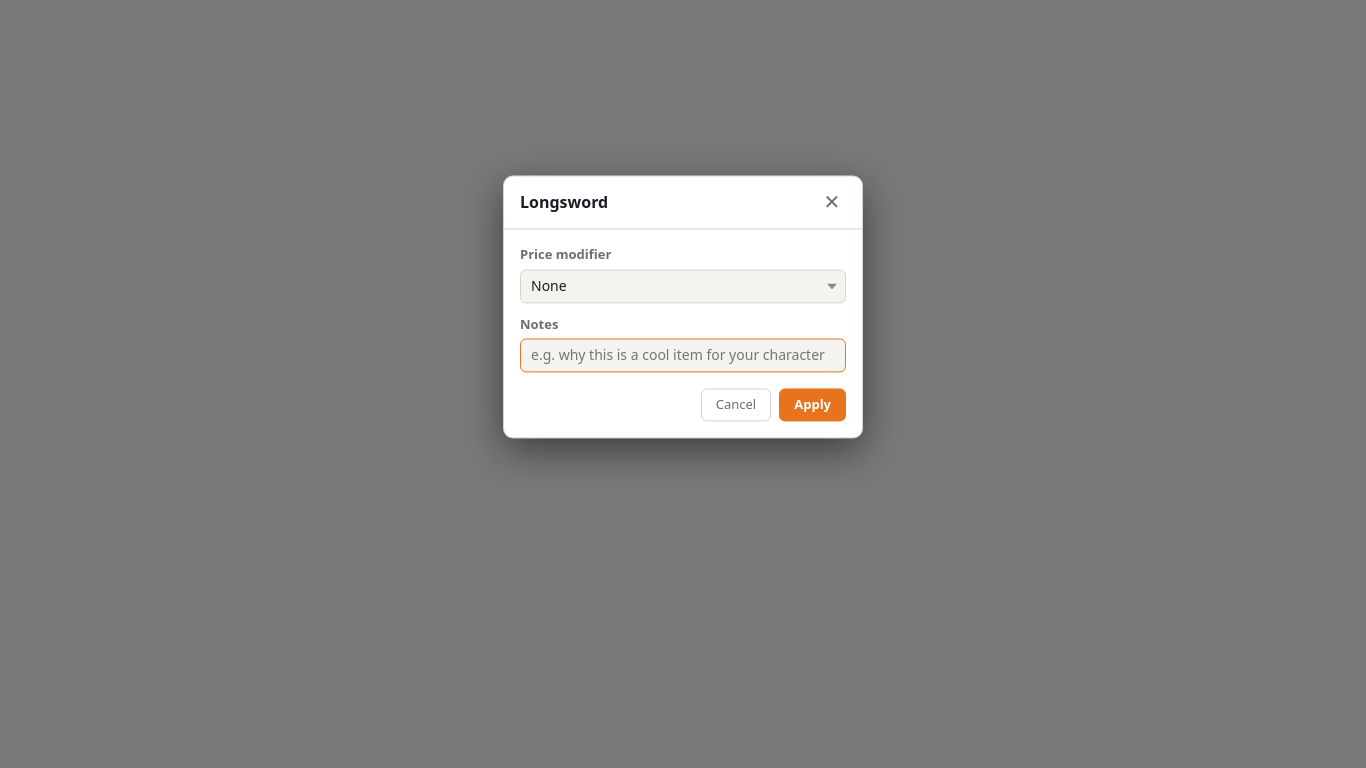
ItemSettingsModal › discount presets › selecting Custom (gp) shows the amount input
Select "Custom (gp)" in the dropdown labelled "Price modifier": (683, 286) [520,269,846,303]
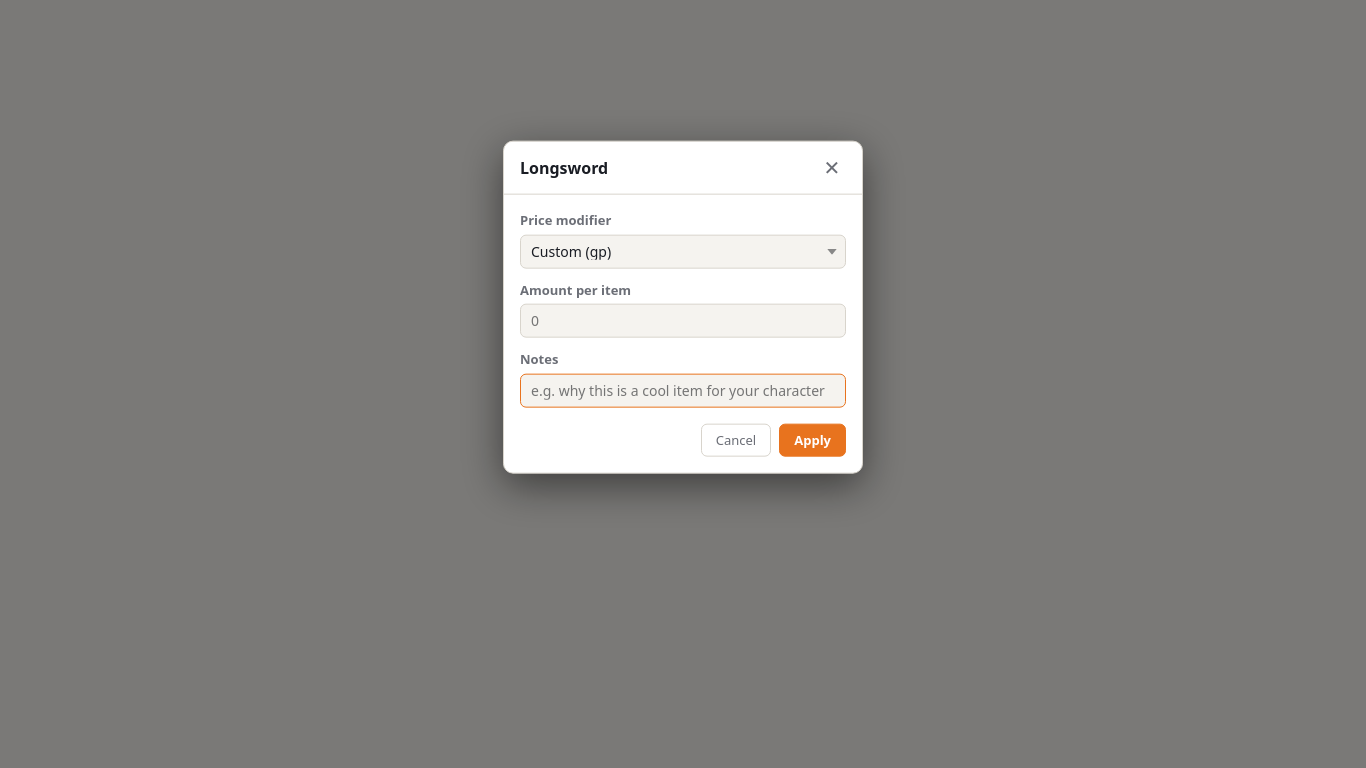
Now the number field labelled "Amount per item" is shown, box [520,304,846,338]
